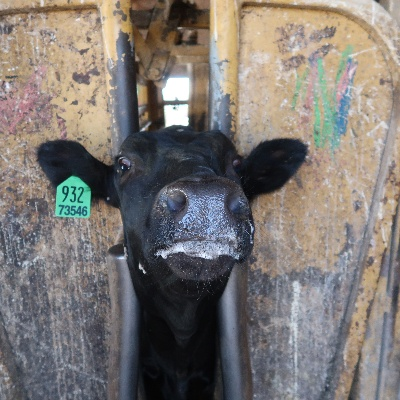fidget_spinner: (149, 179, 260, 259)
